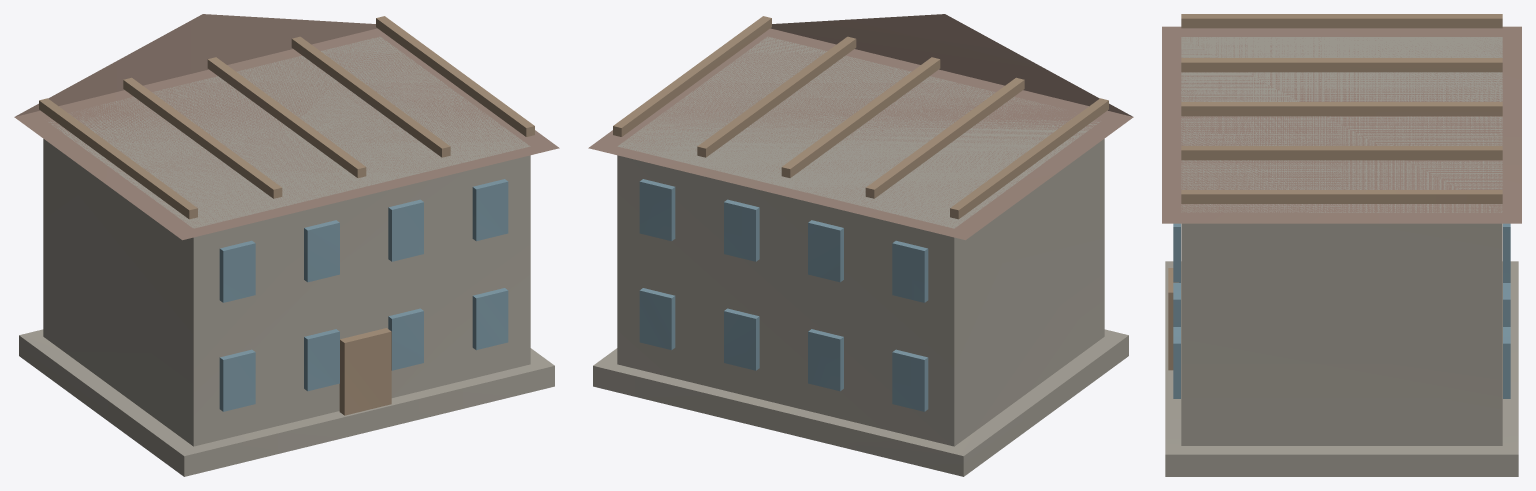
File: greenhouse-06.glb
3 views of the same model, side by side, from view 1: azimuth 30°, elevation 25°; view 2: azimuth 150°, elevation 25°; view 3: azimuth 270°, elevation 25° (orthographic). The views are drawn at different scales.
Visible parts, largest first — view 1: world; view 2: world; view 3: world.
Part boxes in pixels (left/top/right/bottom): world: left=14, top=14, right=559, bottom=476; world: left=588, top=14, right=1133, bottom=476; world: left=1162, top=14, right=1521, bottom=476.
Size of the model in its own units: 1.52 by 1.14 by 1.18.
